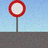sign: (9, 0, 26, 35)
